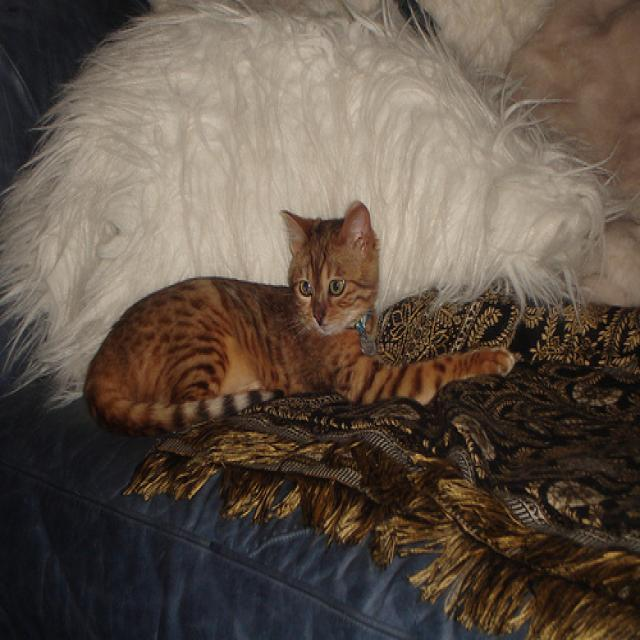Bengal: (288, 196, 380, 334)
